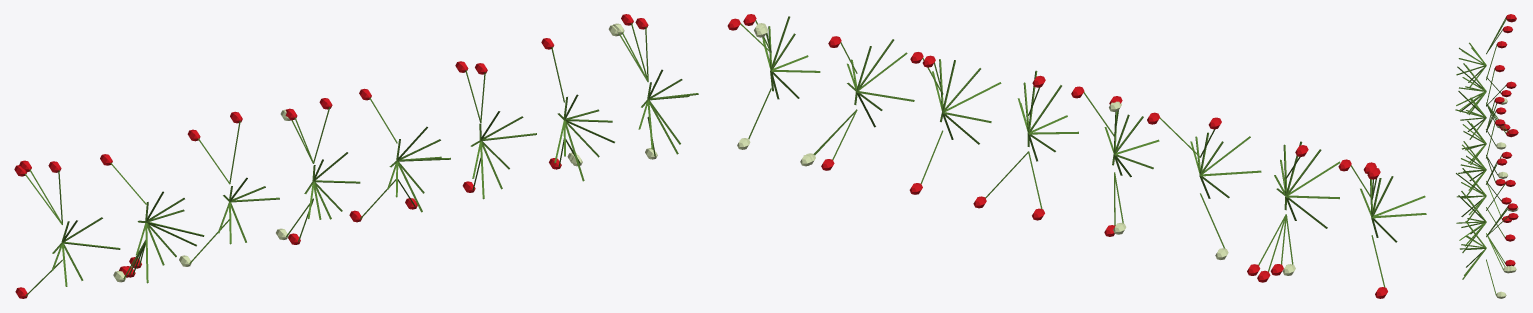
File: r3c5_rest.obj
3 views of the same model, side by side, from view 1: azimuth 30°, elevation 25°; view 2: azimuth 150°, elevation 25°; view 3: azimuth 270°, elevation 25° (orthographic). The views are drawn at different scales.
Parts seen in each view (by area): view 1: r3c5_rest; view 2: r3c5_rest; view 3: r3c5_rest.
Boxes of the visible parts, x1,y1,x2,y2 form: r3c5_rest: (14, 14, 698, 298); r3c5_rest: (727, 14, 1426, 298); r3c5_rest: (1455, 14, 1518, 298).
Size of the model in its own units: 1.94 by 0.4046 by 0.2571.
